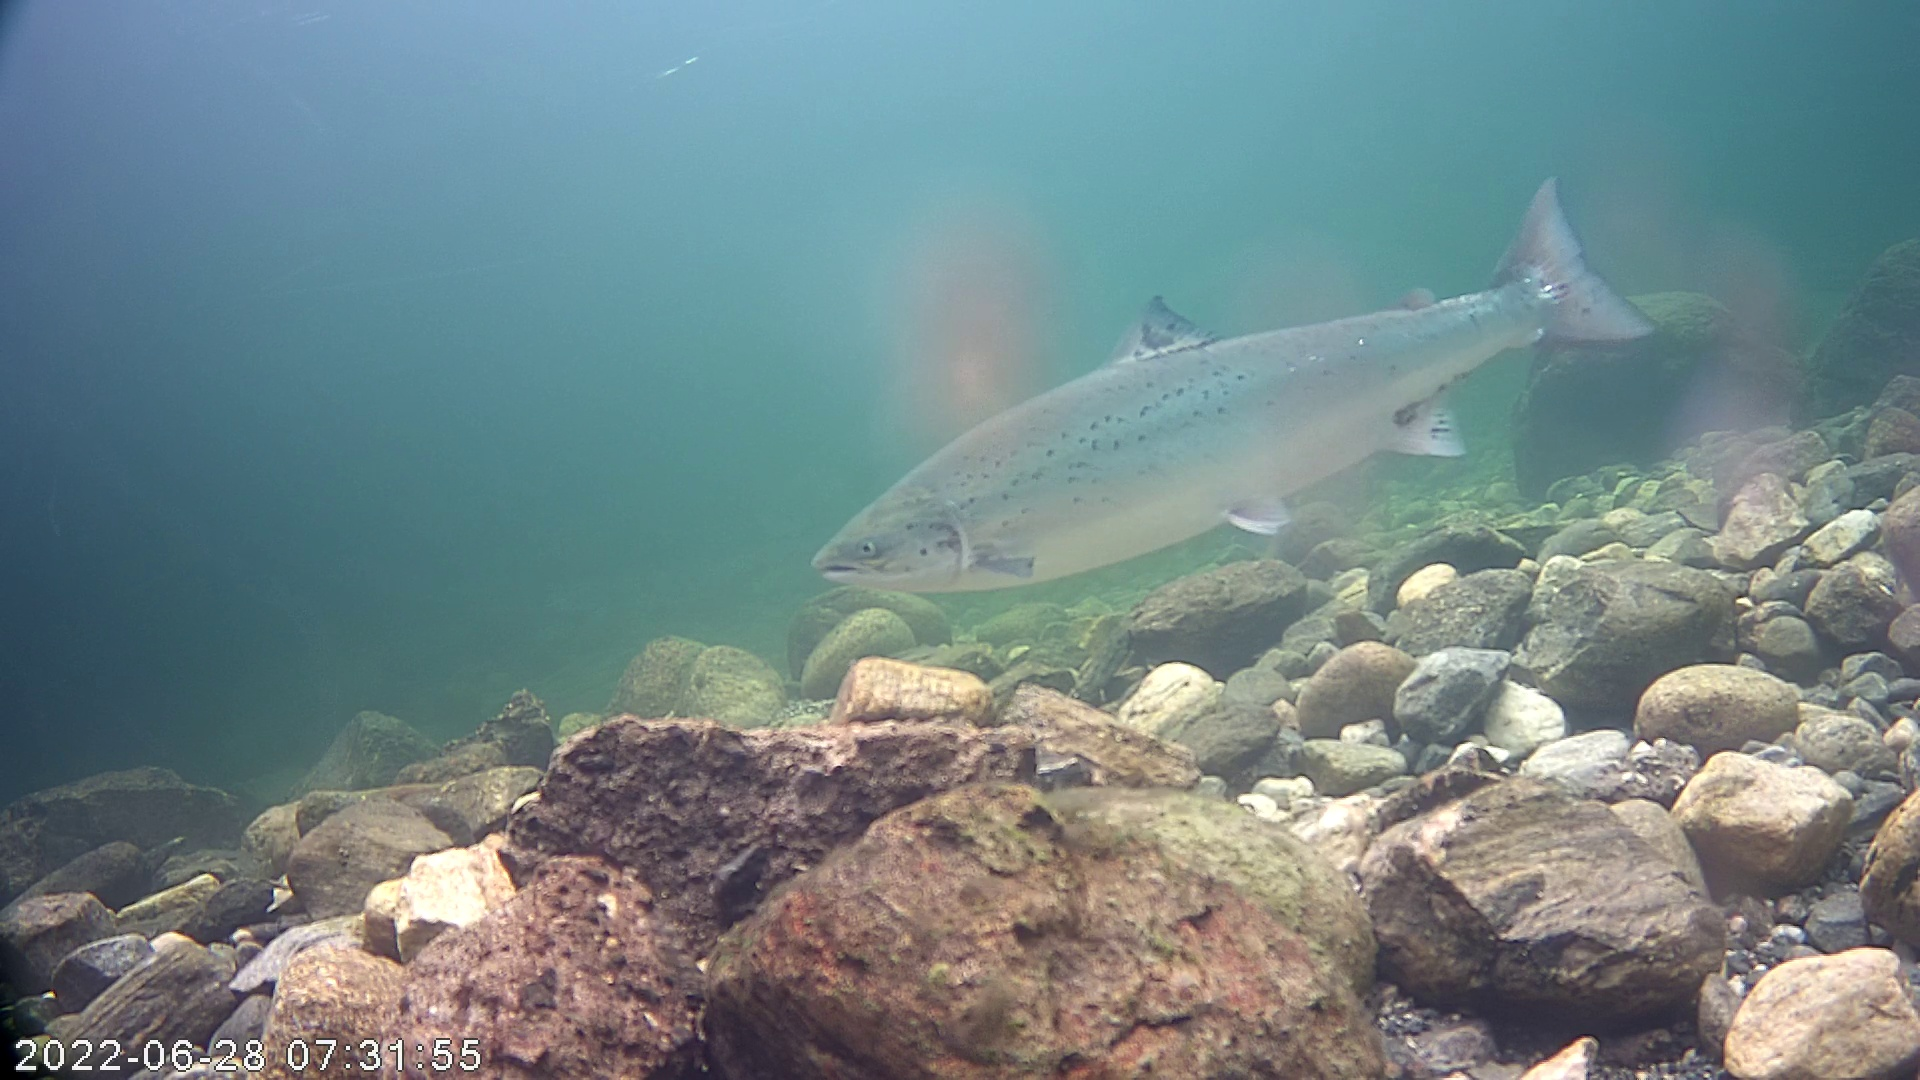salmon: (800, 154, 1685, 628)
